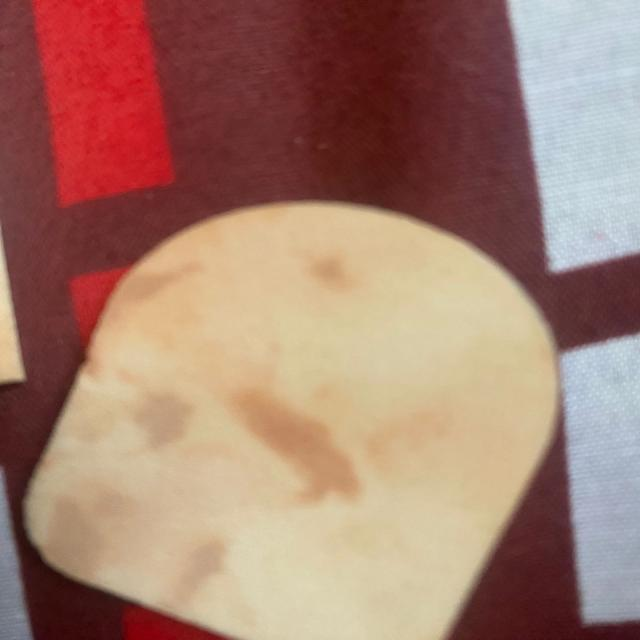beauty blender: (0, 171, 578, 640)
